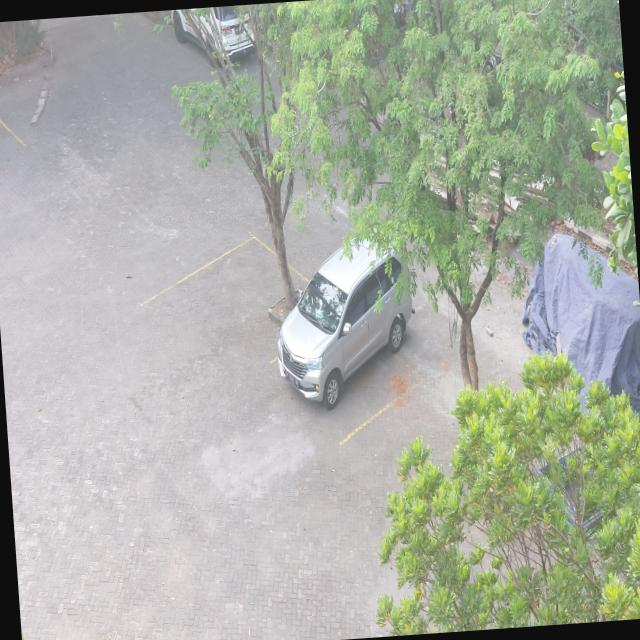empty: (159, 236, 305, 353)
occupied: (269, 310, 425, 444)
